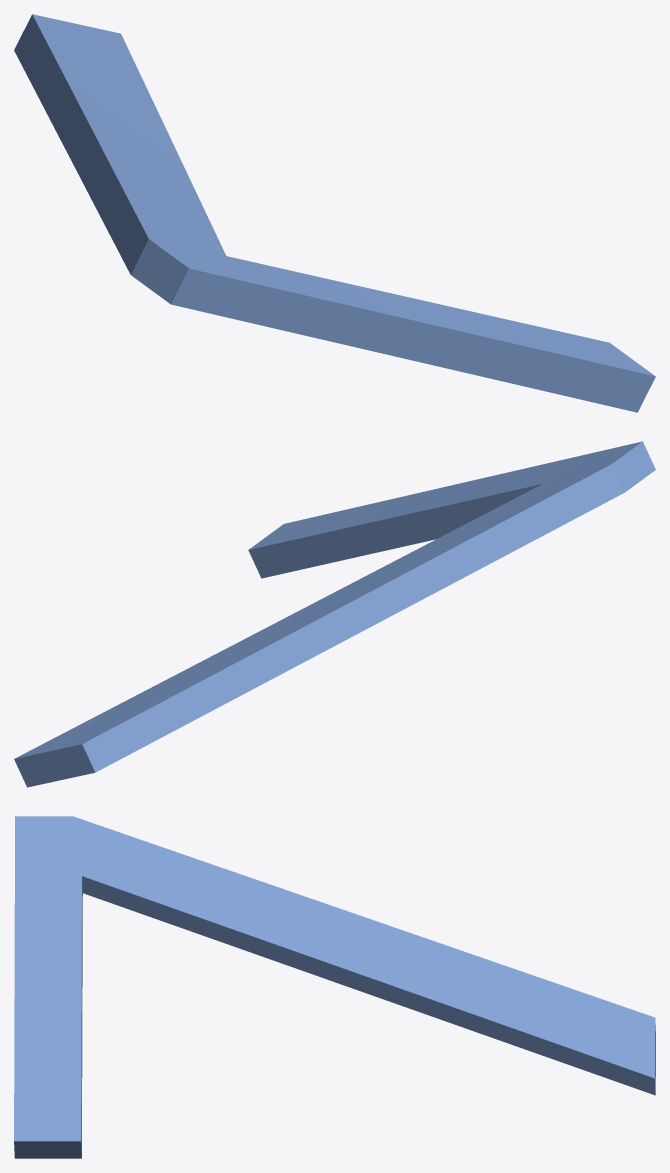
Rendered from New_Number_7.gltf.
The picture shows the model from 3 angles, top to bottom: view 1: azimuth 30°, elevation 25°; view 2: azimuth 150°, elevation 25°; view 3: azimuth 270°, elevation 25°; orthographic projection. The views are drawn at different scales.
Visible parts, largest first — view 1: Part 295; view 2: Part 295; view 3: Part 295.
Part boxes in pixels (x1,y1,x2,y2): Part 295: (14,14,655,412); Part 295: (14,441,655,787); Part 295: (14,816,655,1158).
Size of the model in its own units: 0.00347 by 0.00174 by 0.00551.
